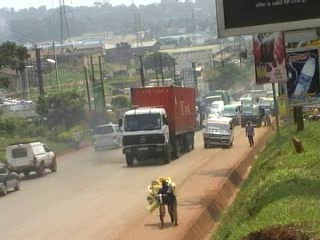Car: (4, 135, 60, 179), (90, 119, 124, 155), (0, 160, 23, 200), (208, 98, 226, 115)
